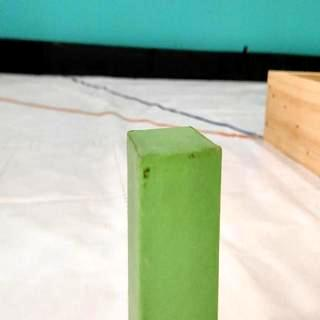greenbox: (128, 125, 222, 320)
